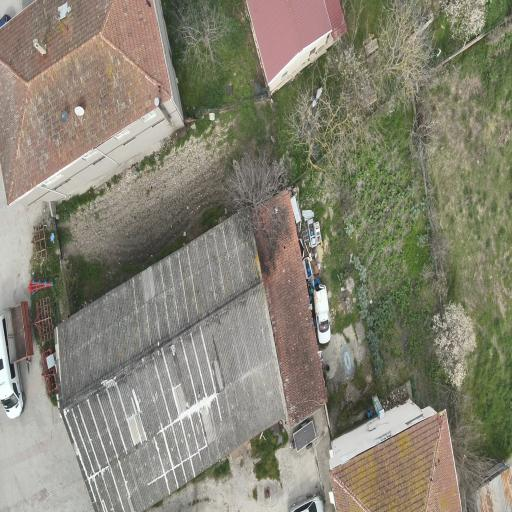car: (0, 316, 23, 418), (313, 284, 330, 344), (291, 496, 323, 511)
